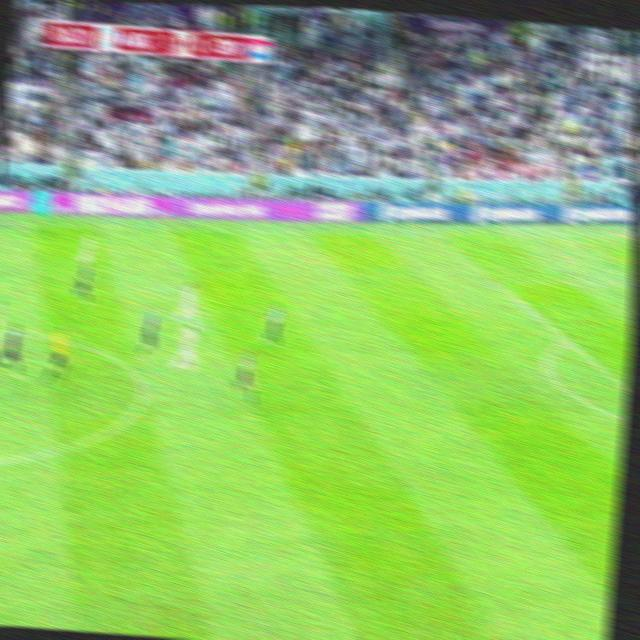bigarea_top_inner: (484, 269, 507, 292)
corner: (620, 225, 636, 242)
top_arc_area_intersection: (556, 328, 579, 353)
